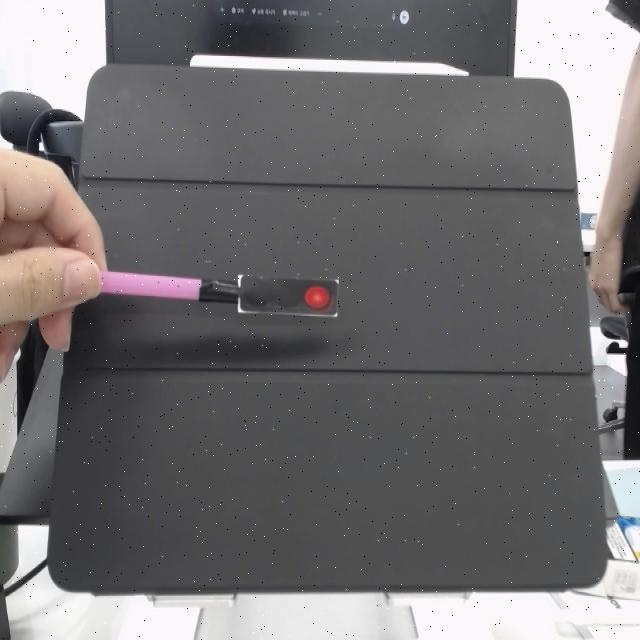traffic light: (236, 276, 341, 324)
